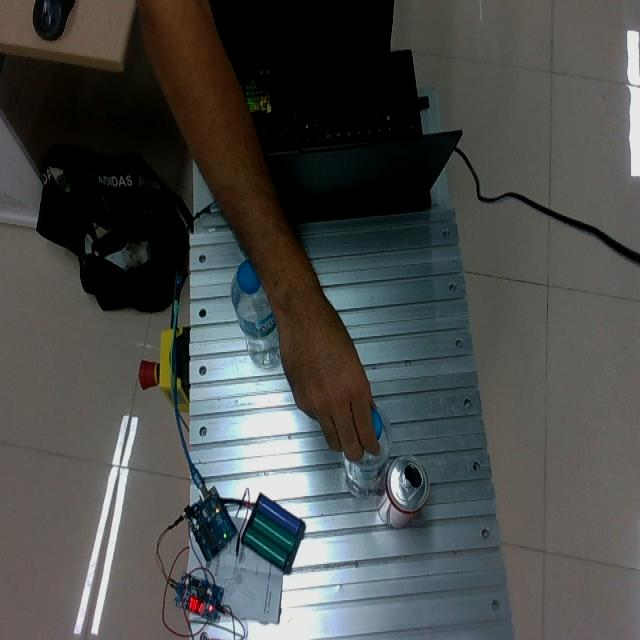coca: (377, 456, 429, 527)
lavie: (232, 262, 281, 370), (341, 407, 394, 496)
